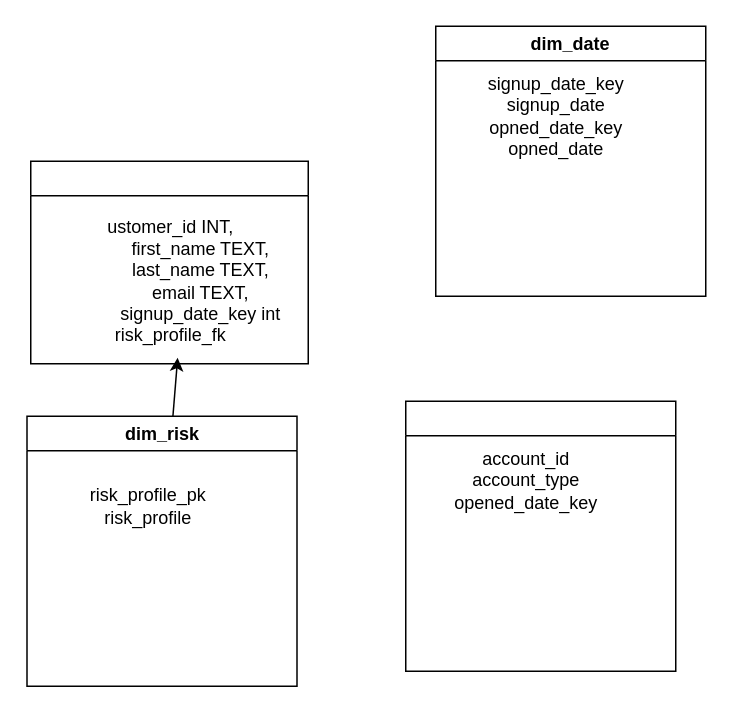
Some shapes in this 732 by 713 pixel diagram are drawn without their labels. Here are the shapes that lost their labels. From the top down, the box of each, then its label:
(29, 160, 308, 364): dim_customer
(404, 400, 676, 671): dim_account_type
